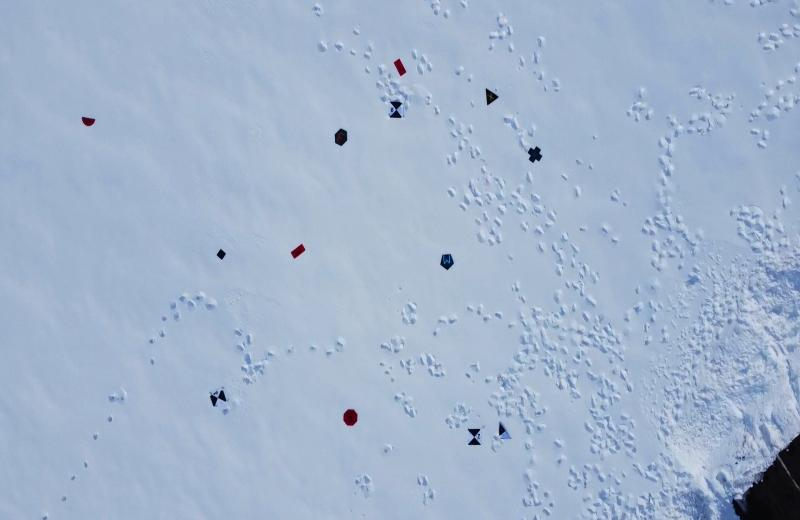Cross: (526, 146, 542, 164)
Hexagon: (334, 127, 348, 147)
Octagon: (342, 408, 358, 427)
Pentagon: (439, 253, 454, 271)
Rectangle: (290, 242, 306, 260), (392, 58, 407, 77)
Semi Circle: (80, 116, 96, 126)
Square: (216, 248, 226, 260)
Triangle: (484, 86, 499, 106)
